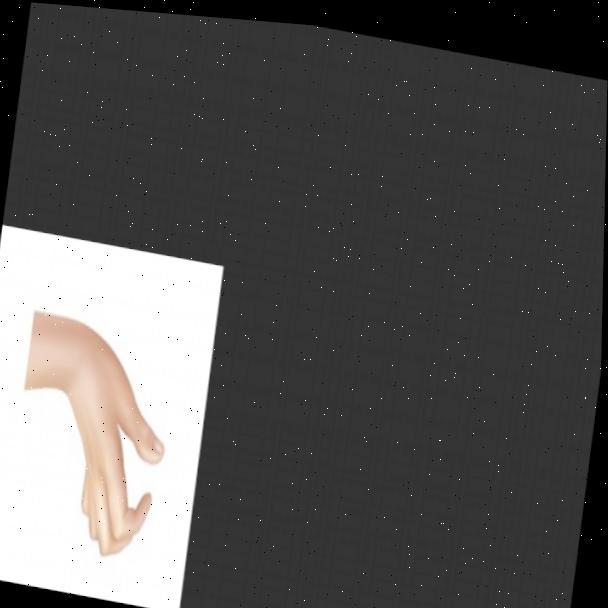five: (48, 305, 187, 564)
